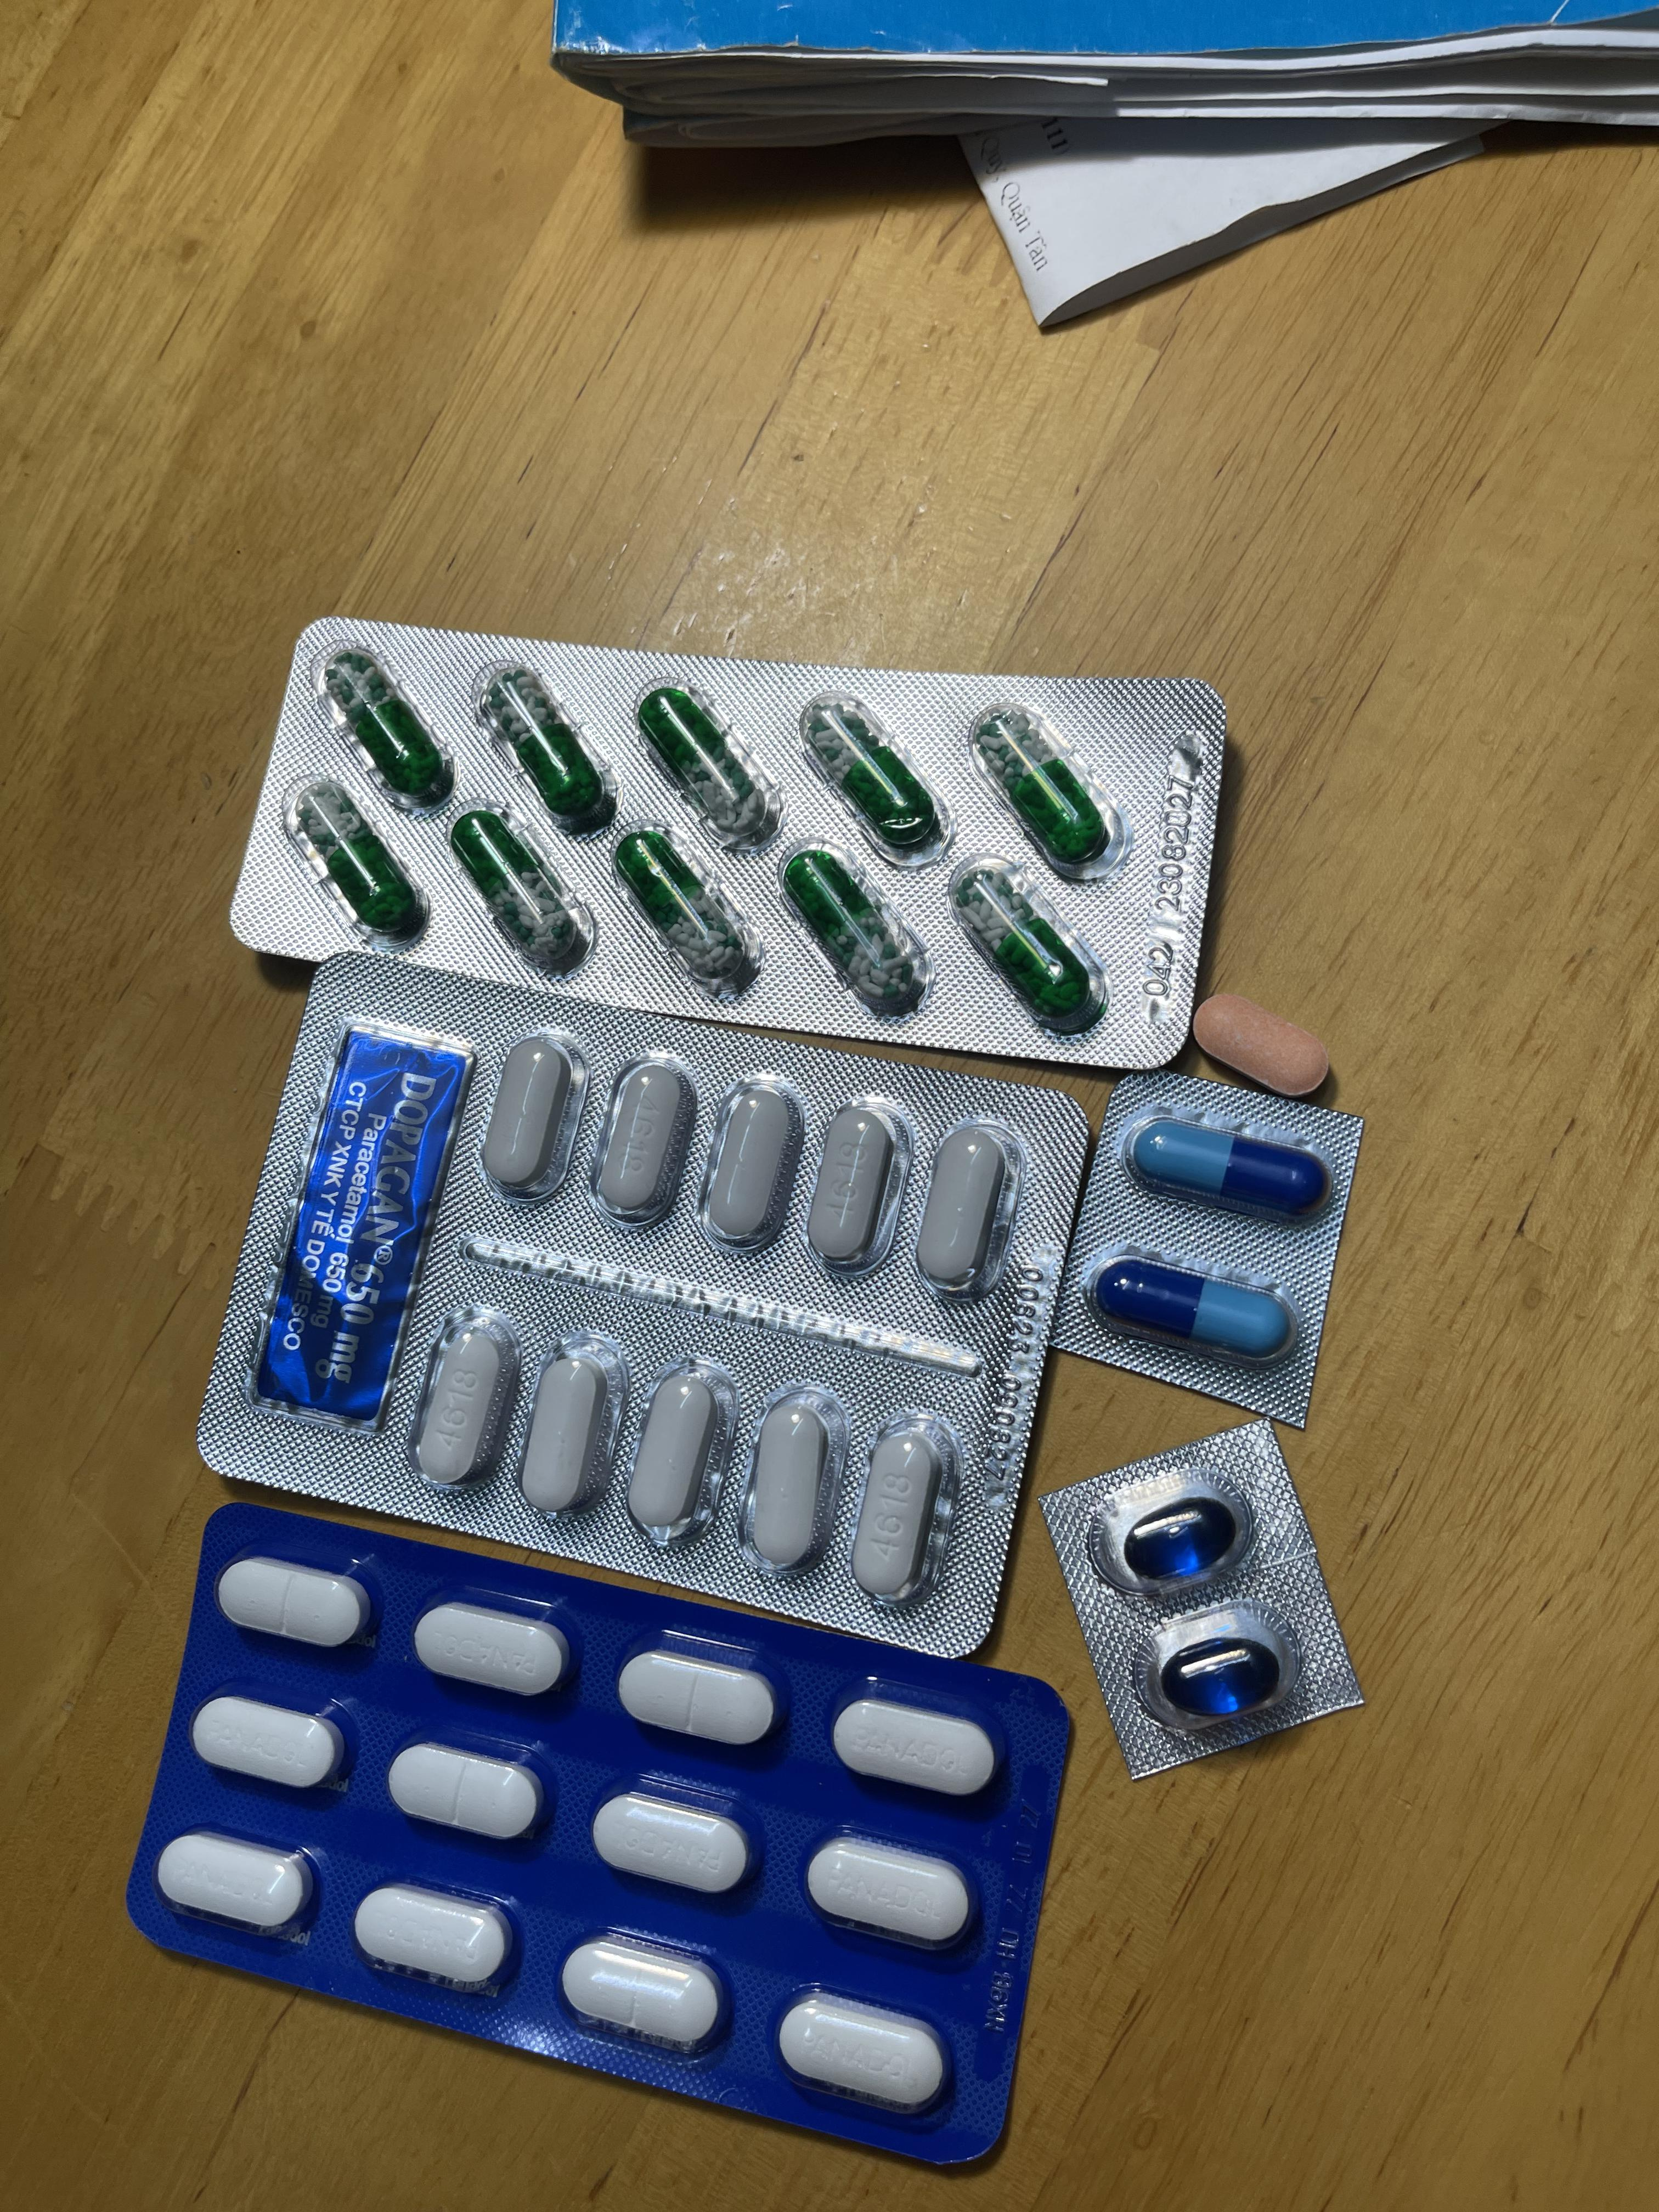Lincomyxin_500mg: (1119, 1496, 1236, 1581), (1157, 1635, 1279, 1716)
Loratadine_10mg: (1192, 995, 1330, 1096)
Paracetamol_350mg: (775, 1991, 950, 2114), (807, 1834, 976, 1949), (558, 1939, 725, 2052), (591, 1787, 756, 1897), (354, 1883, 512, 1993), (831, 1695, 999, 1797), (617, 1644, 779, 1747), (153, 1831, 312, 1935), (389, 1740, 547, 1843), (190, 1691, 345, 1792), (413, 1599, 573, 1696), (214, 1554, 373, 1649)
Paracetamol_500mg: (845, 1411, 960, 1606), (406, 1305, 519, 1491), (620, 1360, 732, 1541), (514, 1338, 624, 1519), (735, 1386, 842, 1573), (910, 1118, 1018, 1294), (802, 1096, 908, 1273), (586, 1052, 695, 1223), (474, 1026, 582, 1197), (697, 1076, 802, 1249)
Paracetamol_650mg: (281, 772, 430, 946), (638, 678, 788, 852), (969, 702, 1119, 874), (800, 688, 950, 860), (314, 643, 458, 815), (476, 662, 619, 836), (950, 859, 1098, 1024), (613, 824, 760, 991), (782, 845, 929, 1012), (448, 803, 592, 972)
pill: (1098, 1254, 1288, 1359), (1134, 1118, 1323, 1212)
